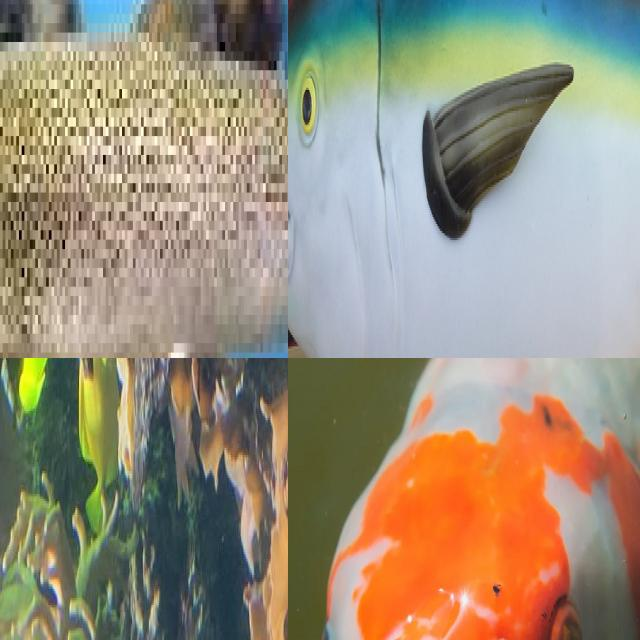fish: (288, 0, 640, 358), (0, 0, 288, 358), (374, 358, 640, 640)
